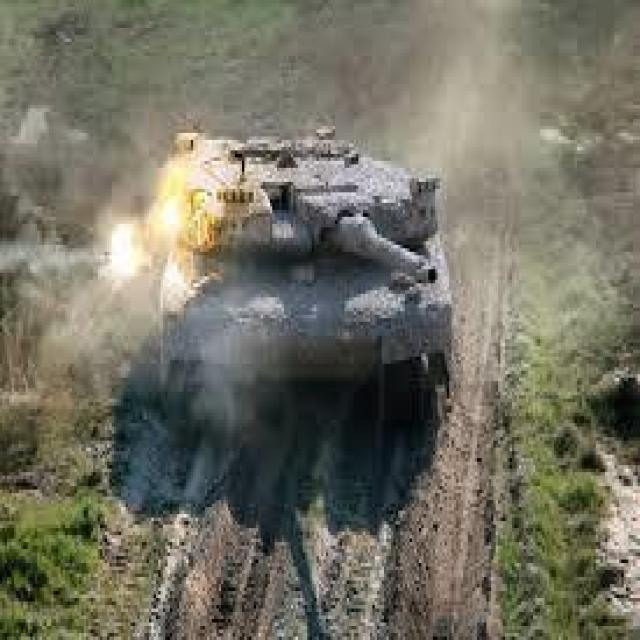Tanks: (151, 119, 454, 409)
